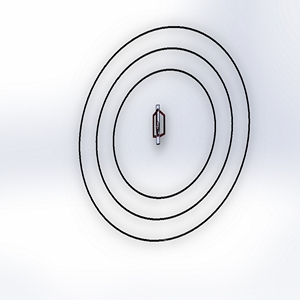circle: (71, 20, 255, 248)
submarine: (138, 98, 172, 149)
